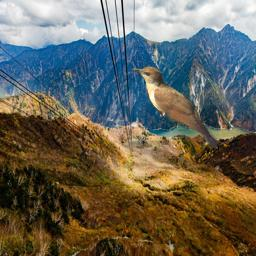Cuckoo: (133, 66, 217, 148)
